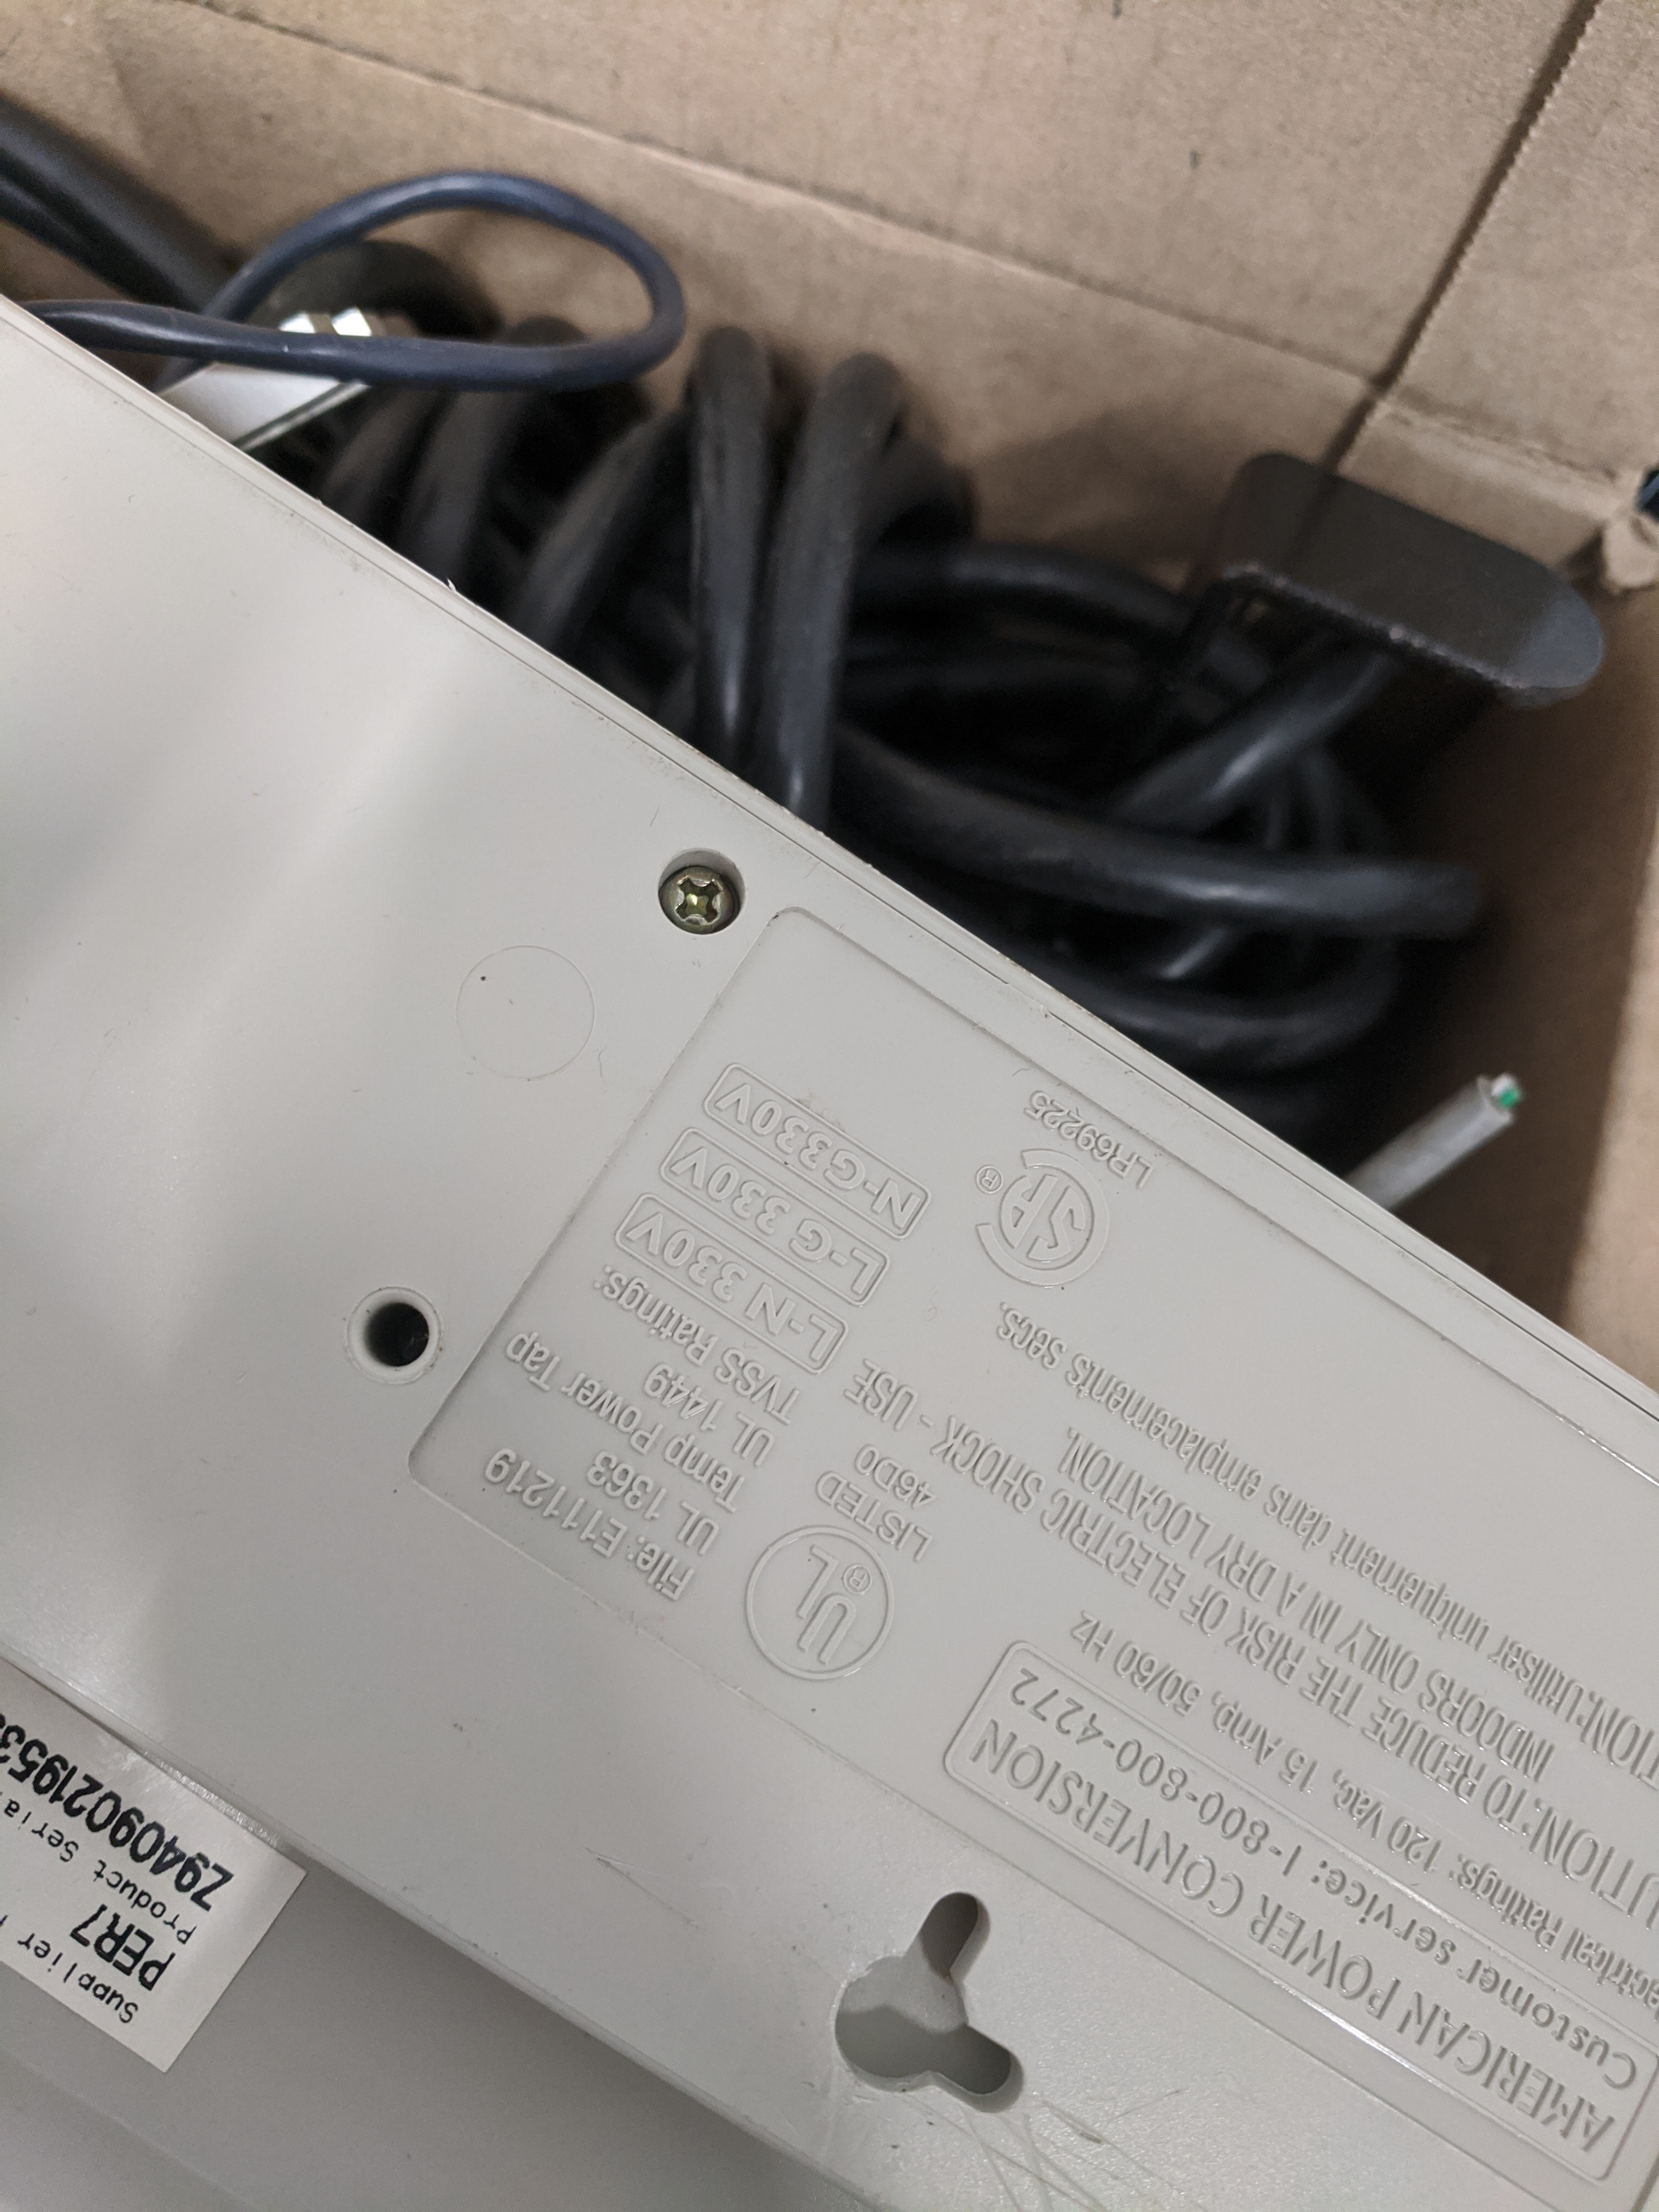cross_recessed_screw: (645, 845, 753, 948)
